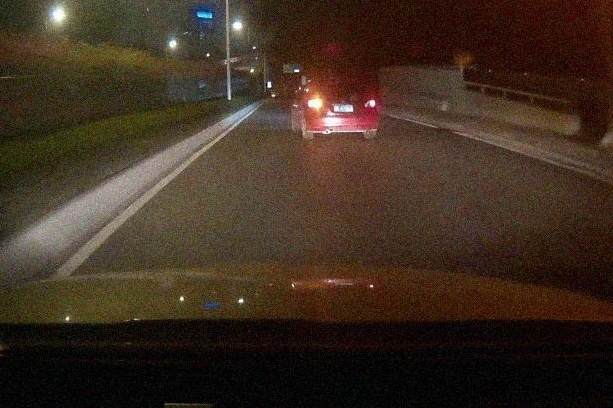L_light: (308, 99, 322, 108)
R_light: (364, 99, 376, 107)
T_light: (333, 79, 345, 83)
night-left: (307, 76, 379, 140)
